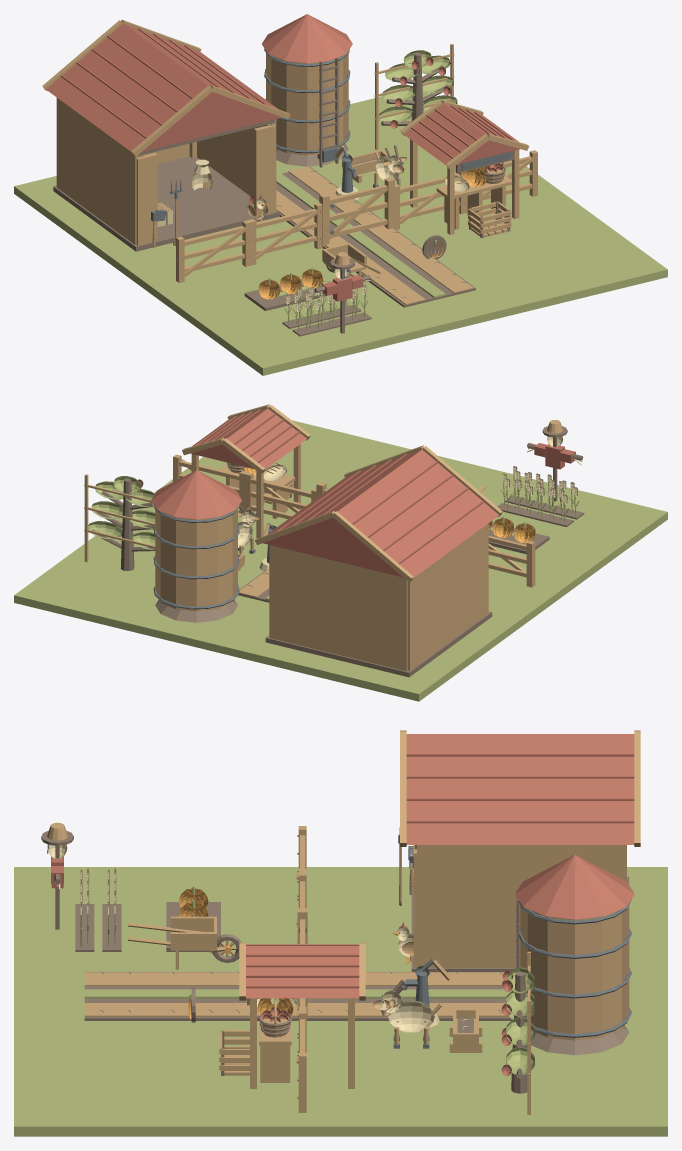
Rendered from harvest-hearth-starter-scene__74.glb.
3 renders of one model, top to bottom at view 1: azimuth 30°, elevation 25°; view 2: azimuth 150°, elevation 25°; view 3: azimuth 270°, elevation 25°, orthographic. The views are drawn at different scales.
Visible parts, largest first — view 1: terrain-base, 01-harvest-hearth-open-barn/1, 01-harvest-hearth-open-barn/2, 01-harvest-hearth-open-barn/0, 02-harvest-hearth-grain-silo/0, 03-harvest-hearth-produce-shelter/0, 03-harvest-hearth-produce-shelter/1, 02-harvest-hearth-grain-silo/2, 04-harvest-hearth-field-gate/0, 16-harvest-hearth-orchard-tree/2, 05-harvest-hearth-split-rail-fence/0, 06-harvest-hearth-split-rail-fence/0 (+24 smaller); view 2: terrain-base, 01-harvest-hearth-open-barn/1, 01-harvest-hearth-open-barn/2, 02-harvest-hearth-grain-silo/0, 03-harvest-hearth-produce-shelter/1, 02-harvest-hearth-grain-silo/2, 03-harvest-hearth-produce-shelter/0, 16-harvest-hearth-orchard-tree/2, 16-harvest-hearth-orchard-tree/0, 01-harvest-hearth-open-barn/0, 02-harvest-hearth-grain-silo/3, 07-harvest-hearth-split-rail-fence/0 (+13 smaller); view 3: terrain-base, 01-harvest-hearth-open-barn/2, 01-harvest-hearth-open-barn/1, 02-harvest-hearth-grain-silo/0, 03-harvest-hearth-produce-shelter/1, 02-harvest-hearth-grain-silo/2, 03-harvest-hearth-produce-shelter/0, 12-harvest-hearth-farm-track/1, 21-harvest-hearth-wheelbarrow/0, 02-harvest-hearth-grain-silo/3, 16-harvest-hearth-orchard-tree/2, 09-harvest-hearth-farm-track/1 (+20 smaller).
Part boxes in pixels (box(x1,y1,x2,y2)): terrain-base: box(14, 92, 667, 375); 01-harvest-hearth-open-barn/1: box(42, 19, 290, 245); 01-harvest-hearth-open-barn/2: box(46, 24, 282, 152); 01-harvest-hearth-open-barn/0: box(53, 119, 279, 251); 02-harvest-hearth-grain-silo/0: box(266, 53, 348, 155); 03-harvest-hearth-produce-shelter/0: box(400, 100, 529, 234); 03-harvest-hearth-produce-shelter/1: box(404, 104, 520, 165); 02-harvest-hearth-grain-silo/2: box(262, 14, 352, 63); 04-harvest-hearth-field-gate/0: box(319, 177, 394, 247); 16-harvest-hearth-orchard-tree/2: box(378, 50, 457, 124); 05-harvest-hearth-split-rail-fence/0: box(176, 220, 250, 282); 06-harvest-hearth-split-rail-fence/0: box(248, 202, 322, 265); terrain-base: box(14, 420, 667, 701); 01-harvest-hearth-open-barn/1: box(255, 445, 502, 671); 01-harvest-hearth-open-barn/2: box(263, 449, 498, 578); 02-harvest-hearth-grain-silo/0: box(155, 509, 237, 611); 03-harvest-hearth-produce-shelter/1: box(191, 408, 306, 469); 02-harvest-hearth-grain-silo/2: box(151, 470, 241, 519); 03-harvest-hearth-produce-shelter/0: box(182, 404, 310, 538); 16-harvest-hearth-orchard-tree/2: box(88, 476, 155, 549); 16-harvest-hearth-orchard-tree/0: box(91, 478, 155, 570); 01-harvest-hearth-open-barn/0: box(265, 611, 492, 677); 02-harvest-hearth-grain-silo/3: box(153, 504, 239, 609); 07-harvest-hearth-split-rail-fence/0: box(245, 472, 316, 518); terrain-base: box(14, 867, 667, 1136); 01-harvest-hearth-open-barn/2: box(406, 734, 634, 844); 01-harvest-hearth-open-barn/1: box(400, 730, 640, 967); 02-harvest-hearth-grain-silo/0: box(520, 905, 629, 1040); 03-harvest-hearth-produce-shelter/1: box(246, 944, 359, 998); 02-harvest-hearth-grain-silo/2: box(515, 855, 634, 919); 03-harvest-hearth-produce-shelter/0: box(239, 942, 365, 1088); 12-harvest-hearth-farm-track/1: box(84, 972, 193, 1016); 21-harvest-hearth-wheelbarrow/0: box(128, 916, 236, 969); 02-harvest-hearth-grain-silo/3: box(519, 899, 631, 1037); 16-harvest-hearth-orchard-tree/2: box(506, 967, 534, 1074); 09-harvest-hearth-farm-track/1: box(411, 972, 508, 1016).
Size of the model in its own units: 11.28 by 4.21 by 12.01.
